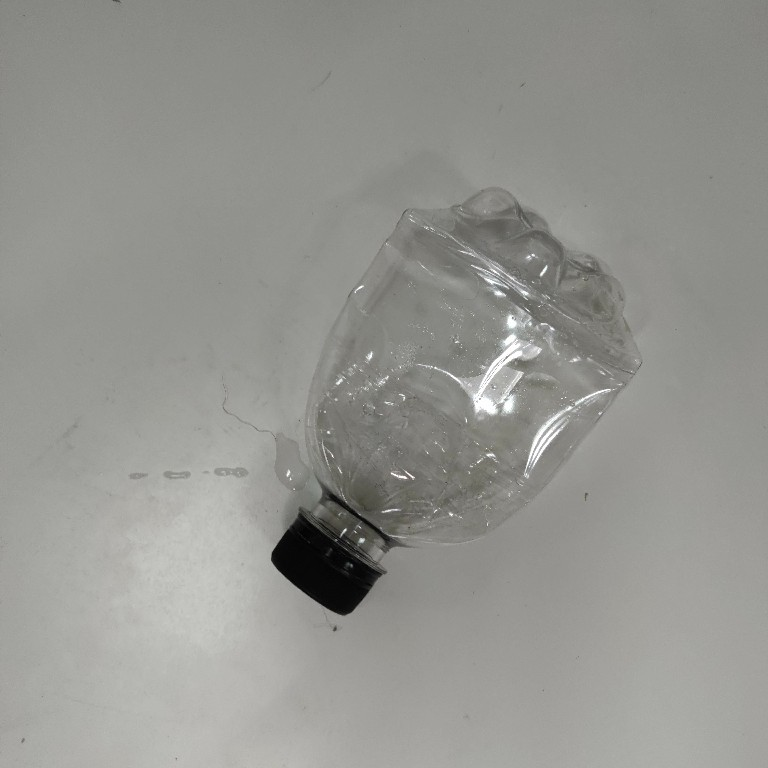bottle: (268, 181, 648, 632)
